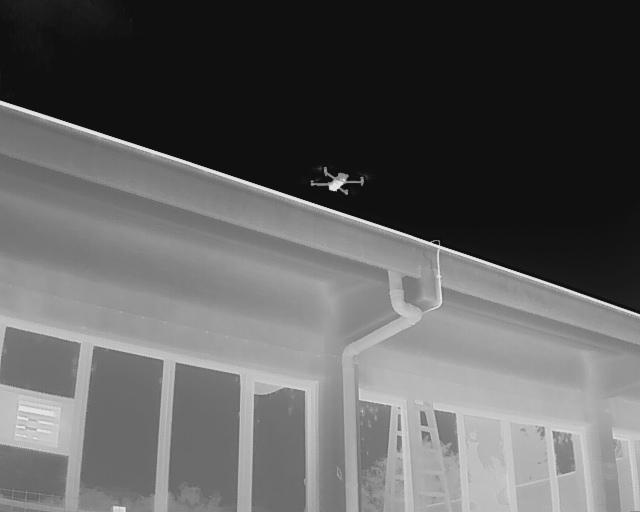drone: (307, 162, 368, 207)
